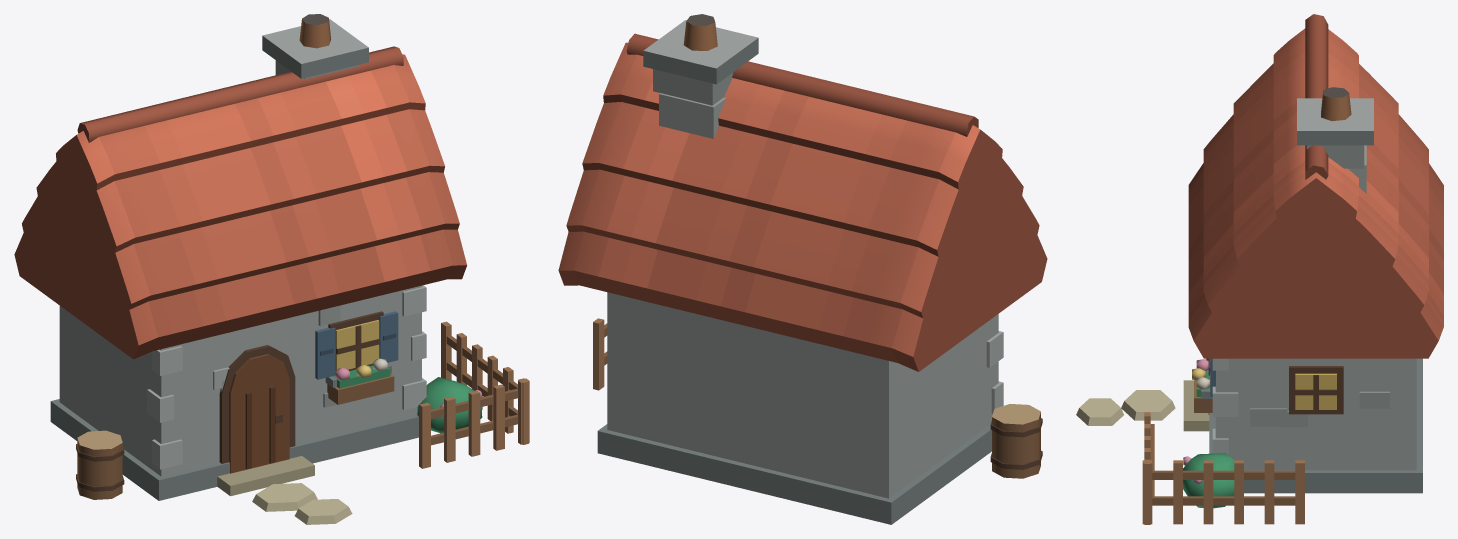
Rendered from cottage_d.glb.
3 views of the same model, side by side, from view 1: azimuth 30°, elevation 25°; view 2: azimuth 150°, elevation 25°; view 3: azimuth 270°, elevation 25° (orthographic). The views are drawn at different scales.
Visible parts, largest first — view 1: body, body_nl; view 2: body; view 3: body, body_nl.
Part boxes in pixels (x1,y1,x2,y2): body: (14, 14, 529, 524); body_nl: (335, 358, 482, 433); body: (558, 14, 1047, 524); body: (1076, 14, 1443, 524); body_nl: (1183, 359, 1234, 508).
Bounding box in the file's own units: 2.78 × 2.61 × 2.29.
